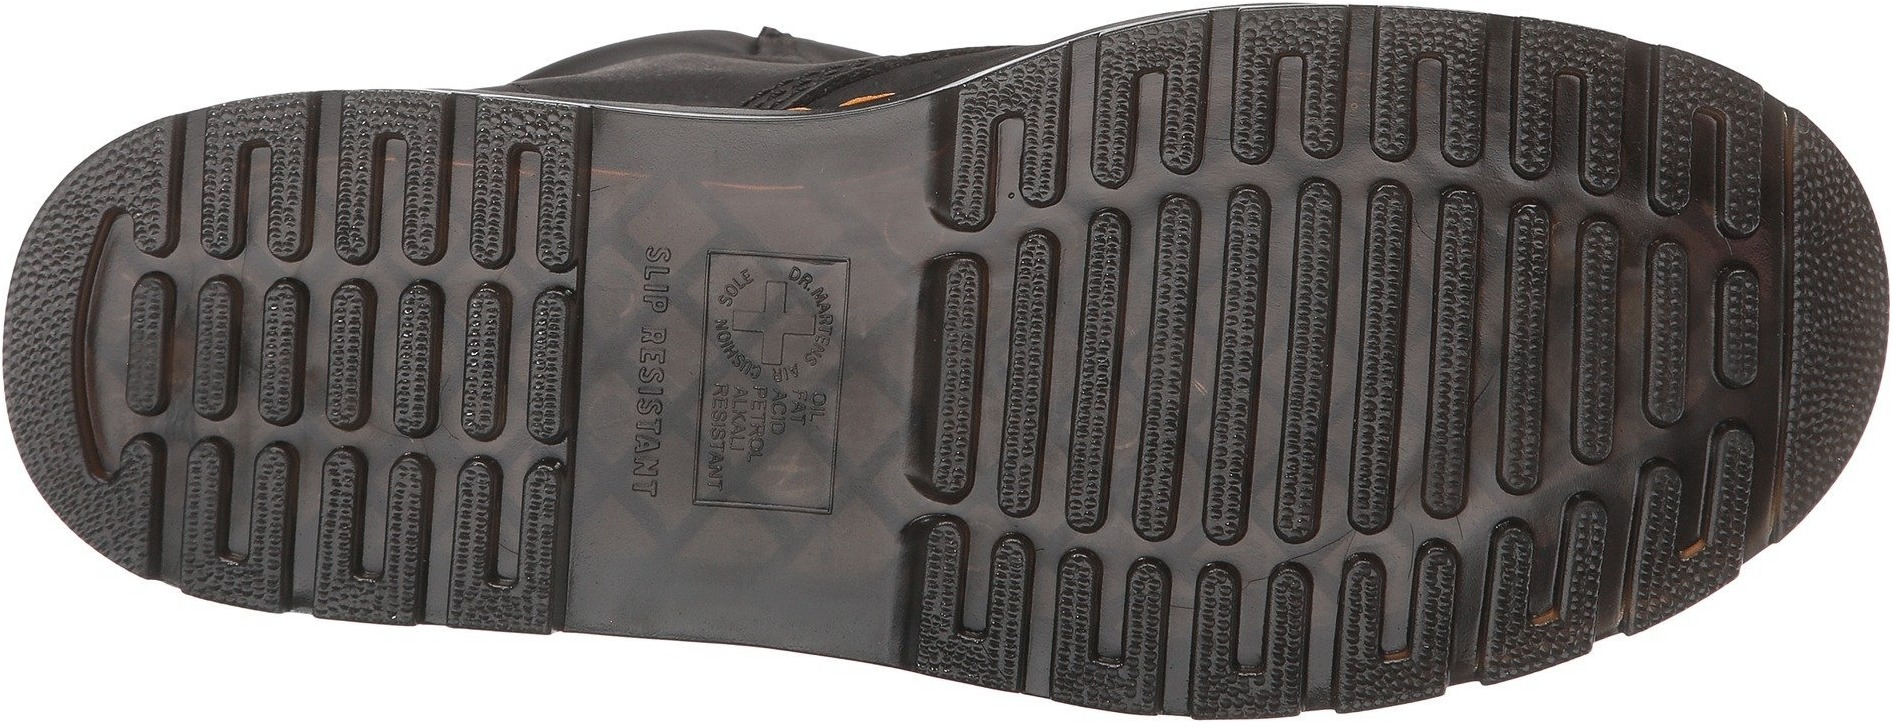circle: (604, 233, 888, 526)
exclude: (549, 108, 648, 636)
other: (694, 520, 828, 648), (719, 129, 838, 236), (1797, 232, 1880, 320), (1797, 328, 1876, 414)
quad: (113, 144, 573, 585), (1189, 164, 1566, 547), (916, 241, 1200, 536), (604, 233, 888, 526), (1555, 213, 1784, 468), (1359, 25, 1500, 177), (1324, 551, 1466, 684)
text: (604, 233, 888, 526), (623, 415, 697, 499), (632, 320, 708, 401), (638, 245, 710, 316)
